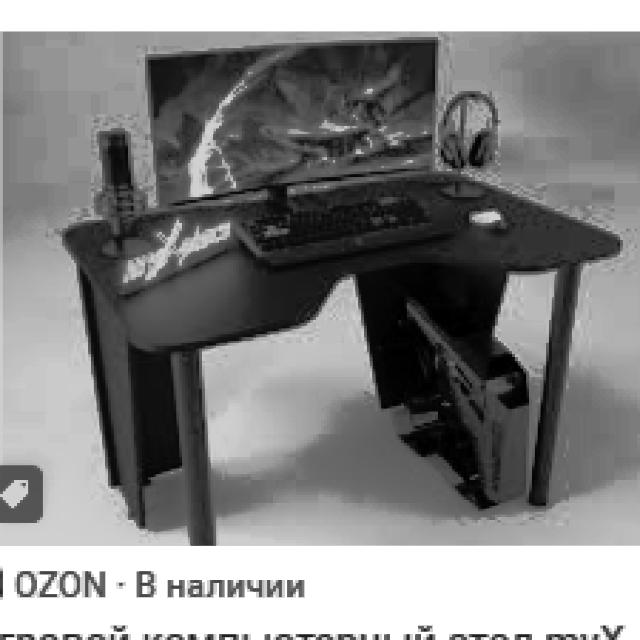table: (60, 168, 620, 543)
